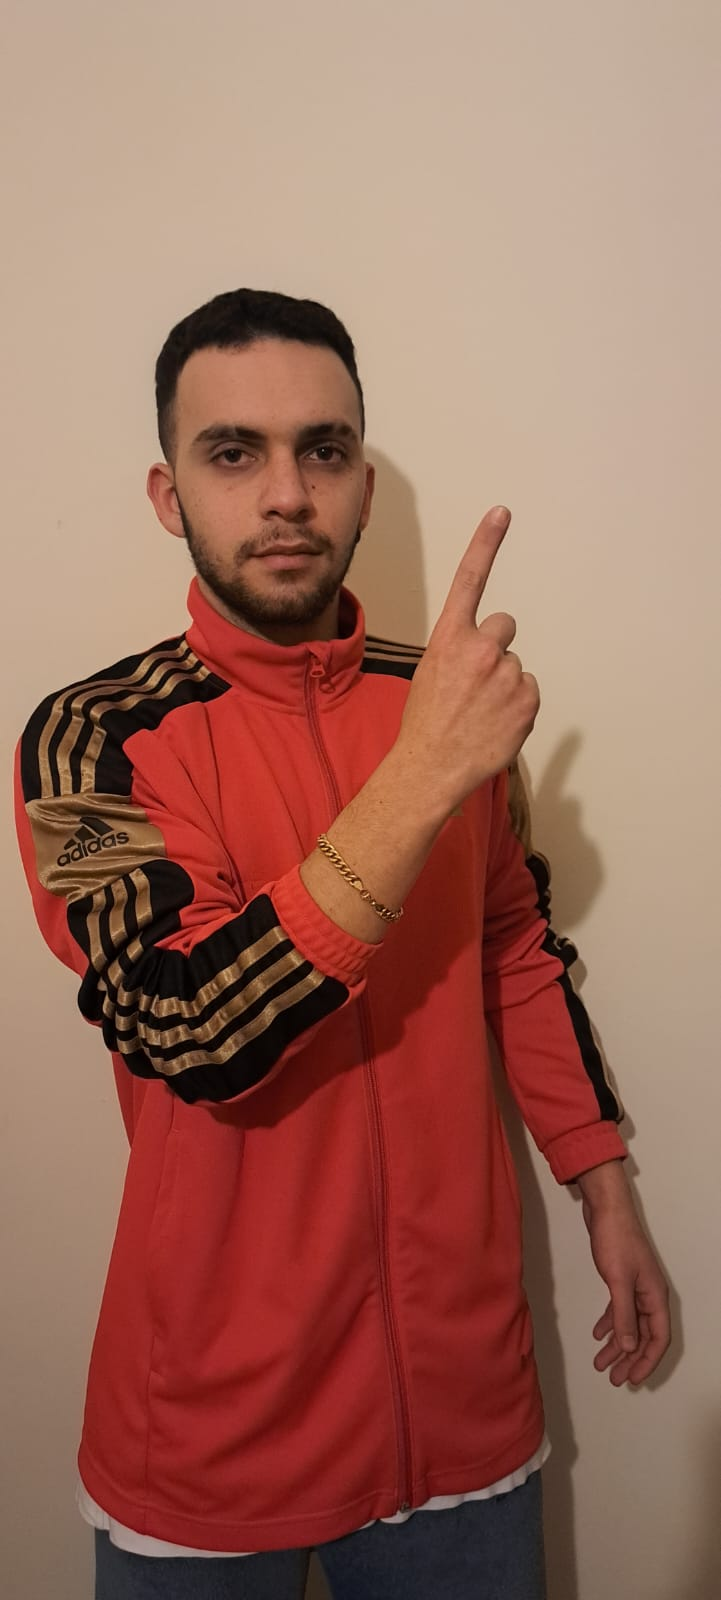joke: (394, 497, 552, 815)
